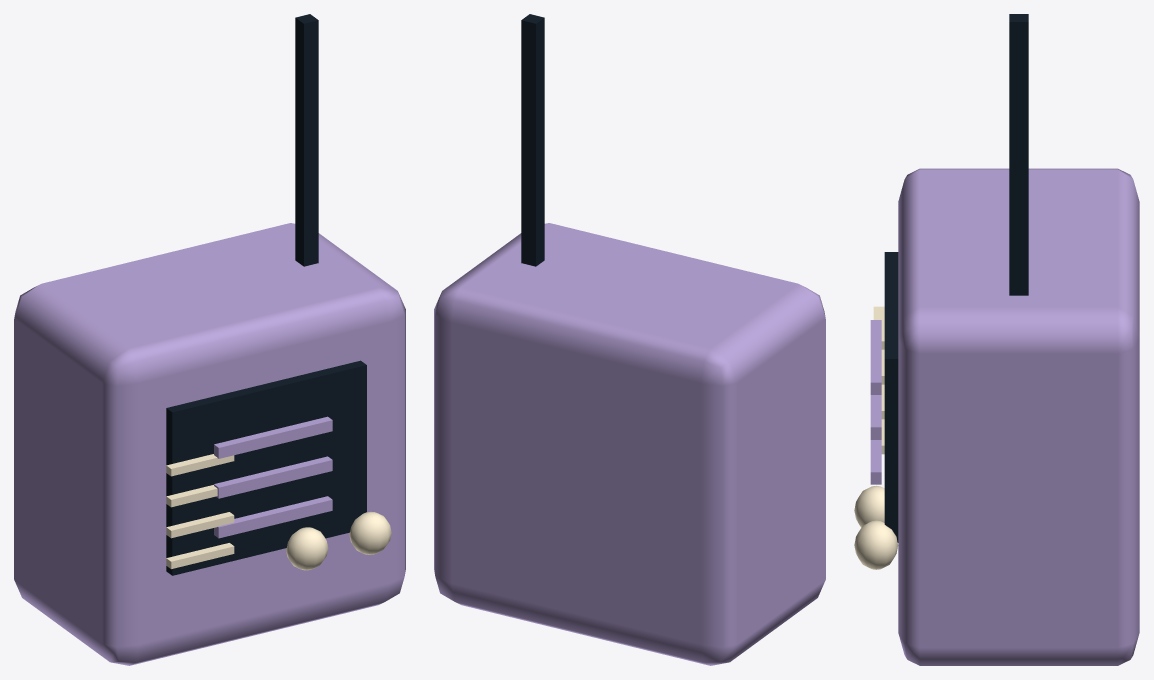
File: item-radio.glb
3 views of the same model, side by side, from view 1: azimuth 30°, elevation 25°; view 2: azimuth 150°, elevation 25°; view 3: azimuth 270°, elevation 25° (orthographic). The views are drawn at different scales.
Parts seen in each view (by area): view 1: package, label, antenna, speaker-line (×3), speaker-slit (×4), tuning-knob (×2); view 2: package, antenna; view 3: package, antenna, label, tuning-knob (×2), speaker-line (×3).
Part boxes in pixels (x1,y1,x2,y2): package: (14, 223, 405, 665); label: (166, 360, 366, 575); antenna: (295, 14, 318, 266); speaker-line (×3): (214, 416, 332, 538); speaker-slit (×4): (166, 454, 234, 569); tuning-knob (×2): (285, 511, 391, 570); package: (434, 223, 825, 665); antenna: (521, 14, 544, 266); package: (898, 168, 1139, 665); antenna: (1009, 14, 1028, 295); label: (884, 252, 898, 542); tuning-knob (×2): (854, 485, 898, 569); speaker-line (×3): (870, 320, 881, 484).
Bounding box in the file's own units: 0.72 × 1.27 × 0.52.
